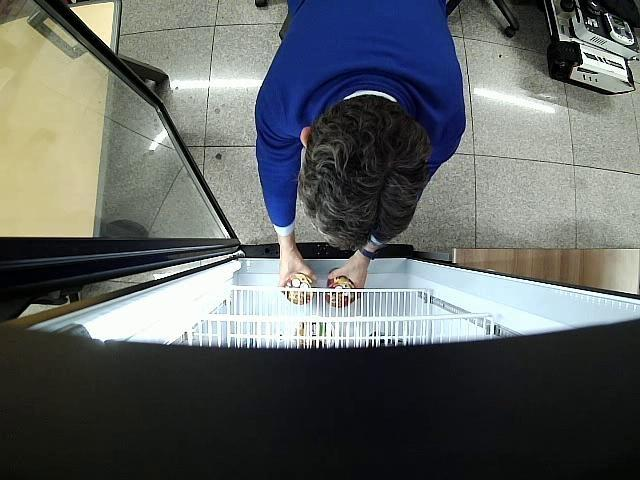06_nuguri_S: (326, 268, 357, 308), (285, 272, 313, 306)
